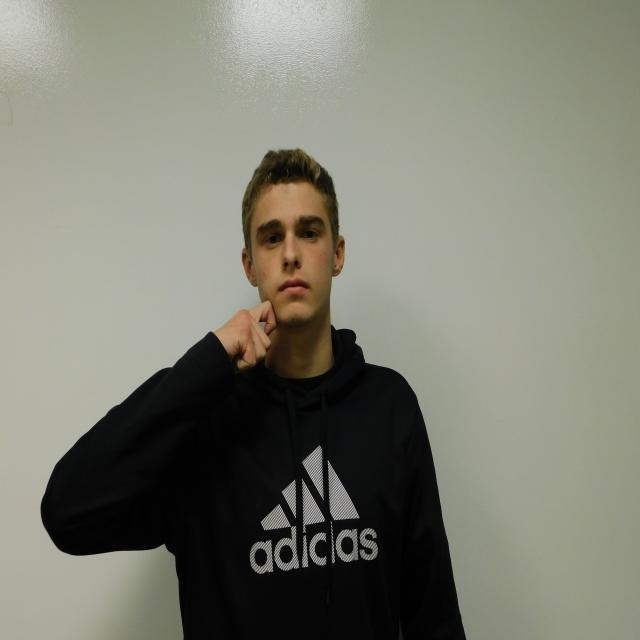apple: (215, 299, 278, 369)
